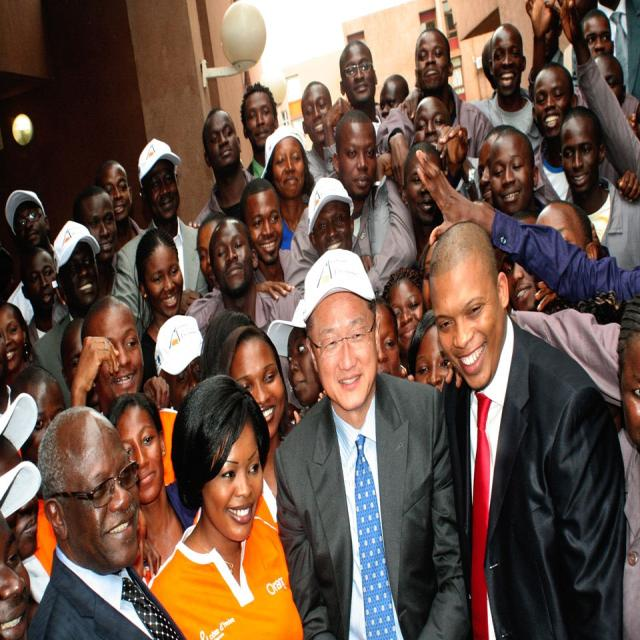body: (426, 219, 629, 639), (273, 245, 472, 640), (147, 373, 304, 640), (25, 403, 193, 639), (68, 291, 183, 491), (0, 367, 84, 639), (31, 219, 145, 417), (192, 323, 295, 534), (399, 22, 545, 166), (376, 26, 497, 198), (499, 268, 639, 415), (110, 136, 208, 345), (374, 73, 478, 268), (283, 108, 379, 302), (104, 390, 198, 586), (556, 101, 639, 271), (366, 269, 460, 406), (526, 0, 639, 109), (206, 214, 304, 339), (263, 297, 327, 442), (321, 38, 387, 178), (502, 202, 639, 269), (134, 225, 186, 393), (125, 312, 208, 413), (193, 104, 259, 227), (604, 414, 639, 639), (238, 175, 298, 301), (2, 187, 55, 328), (259, 124, 316, 250), (531, 62, 580, 206), (70, 181, 120, 308), (487, 126, 546, 216), (20, 242, 70, 348), (299, 78, 343, 194), (305, 172, 357, 260), (92, 158, 143, 247), (238, 80, 280, 179), (187, 208, 224, 312), (602, 109, 640, 203), (479, 120, 502, 269), (207, 313, 255, 380), (0, 300, 34, 386), (57, 319, 81, 368), (478, 33, 494, 98)
